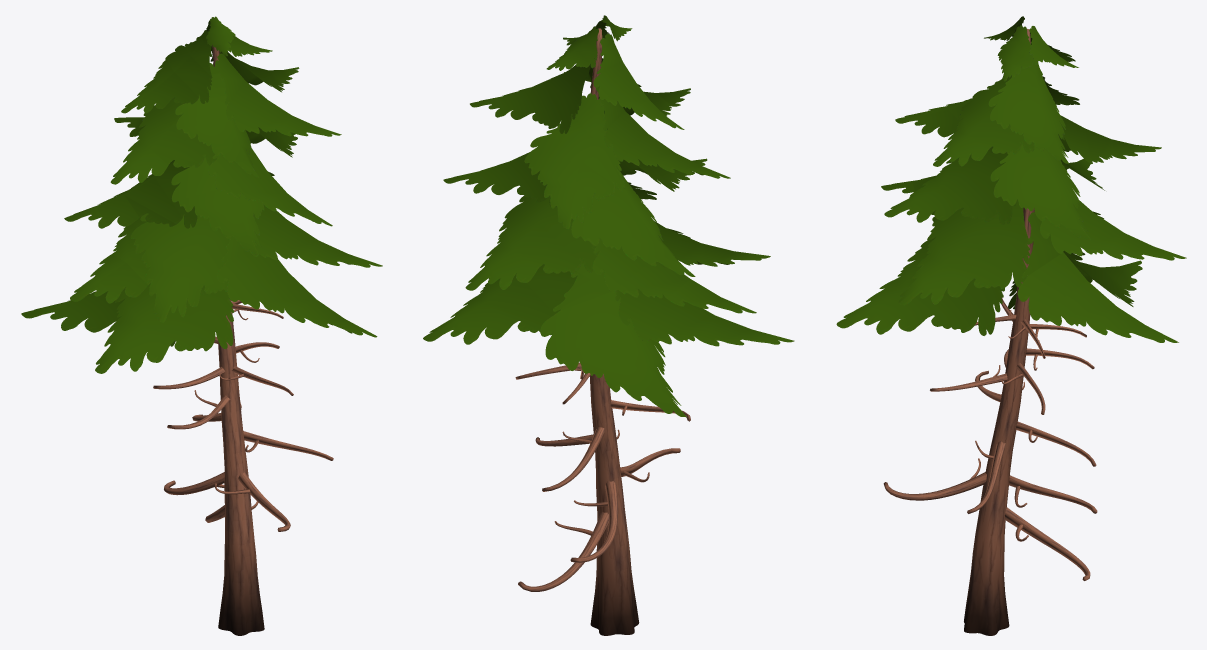
File: Pine_3.glb
The picture shows the model from 3 angles, left to right: view 1: azimuth 30°, elevation 25°; view 2: azimuth 150°, elevation 25°; view 3: azimuth 270°, elevation 25°; orthographic projection. The views are drawn at different scales.
Visible parts, largest first — view 1: Pine_3; view 2: Pine_3; view 3: Pine_3.
Boxes of the visible parts, box(x1,y1,x2,y2) form: Pine_3: box(21, 16, 382, 635); Pine_3: box(423, 15, 794, 635); Pine_3: box(836, 16, 1186, 635).
Bounding box in the file's own units: 3.61 × 7.39 × 4.
Materials: 2 (2 with a texture image).
